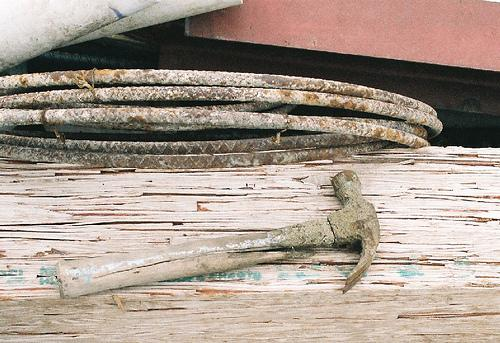hammer: (56, 169, 381, 306)
